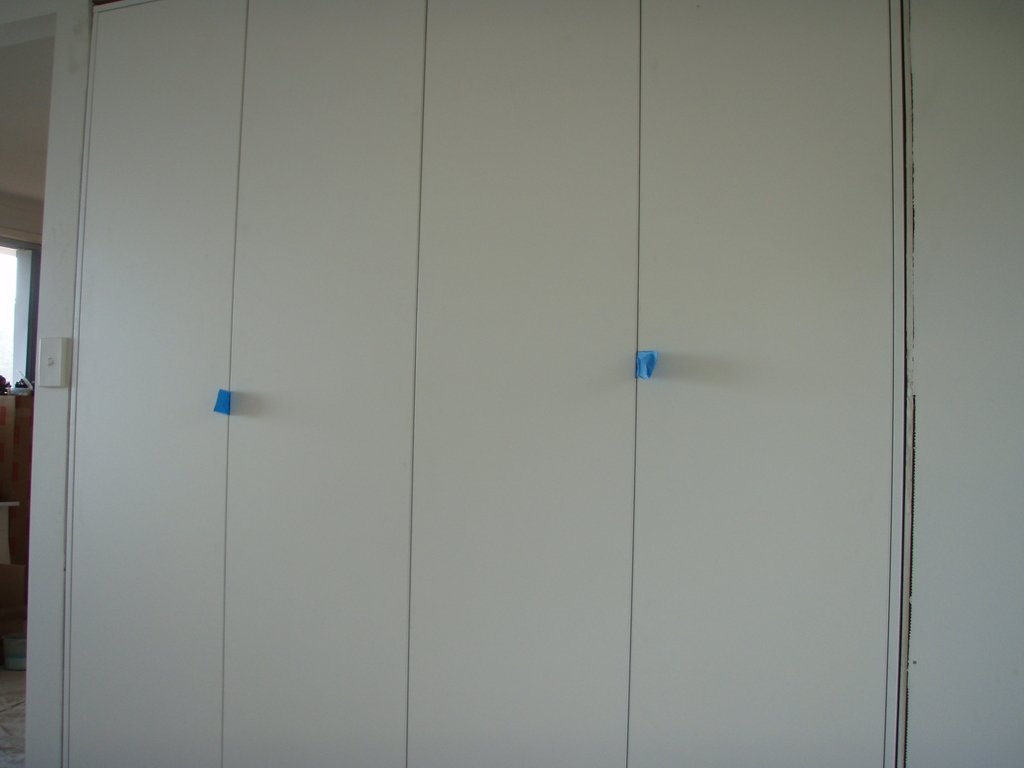cabinet door: (647, 32, 884, 766), (426, 37, 630, 738), (236, 60, 407, 755), (98, 34, 228, 754)
handle: (636, 351, 658, 388), (209, 383, 230, 421)
